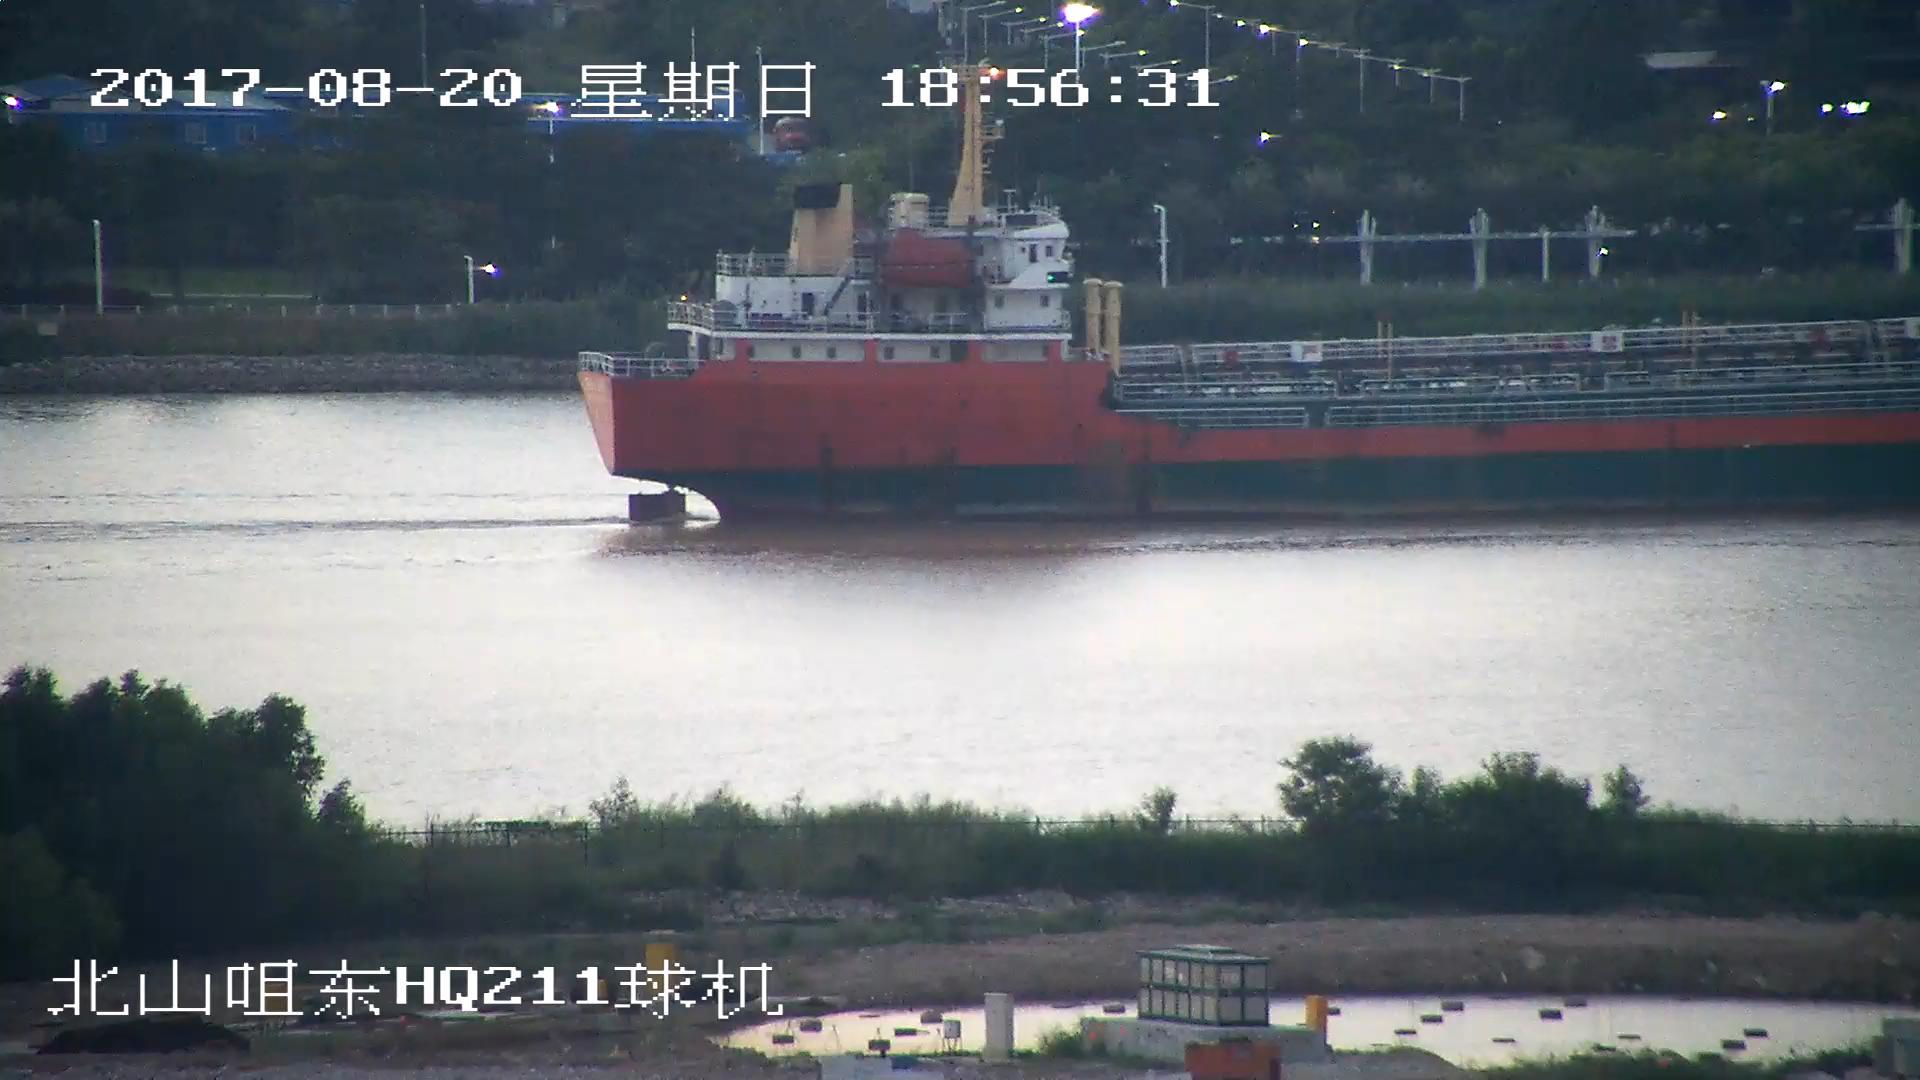Ship: (570, 127, 1920, 518)
